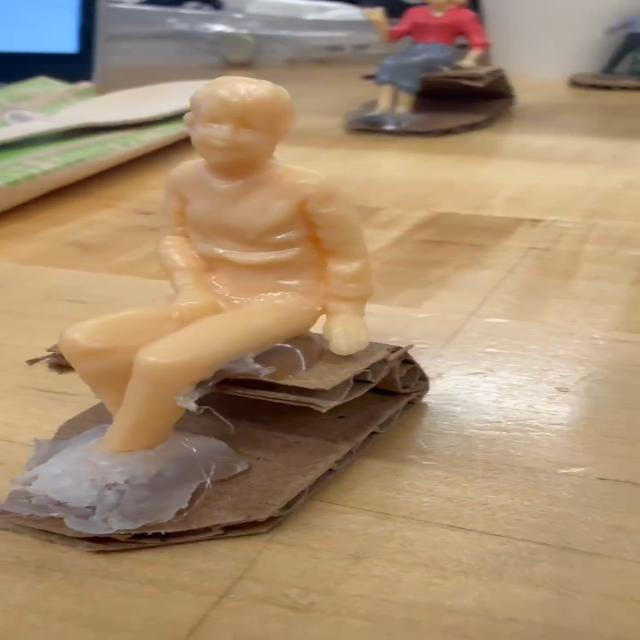Unauthorized: (58, 75, 373, 479)
